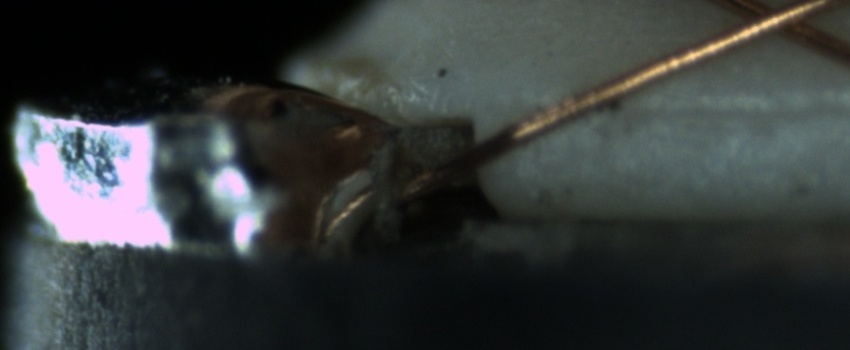CL: (711, 2, 834, 46)
DL: (573, 76, 842, 145)
